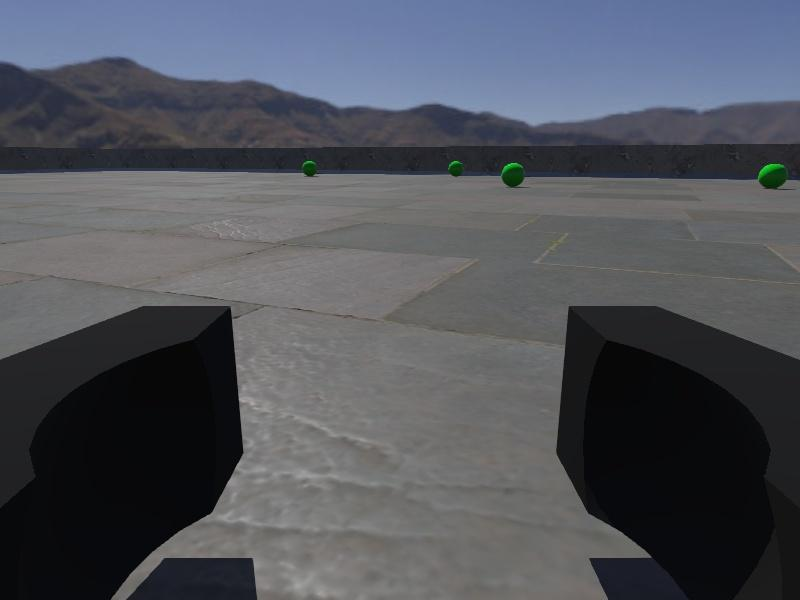green ball: (757, 162, 788, 191), (500, 161, 526, 188), (447, 159, 465, 178), (302, 160, 318, 177)
